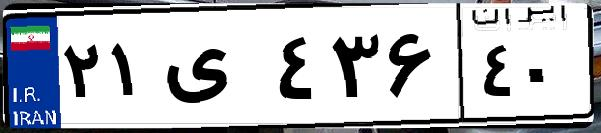0: (525, 38, 570, 115)
1: (110, 28, 158, 98)
2: (57, 26, 110, 100)
3: (330, 28, 385, 110)
4: (270, 28, 330, 110), (475, 38, 525, 113)
6: (385, 28, 445, 110)
ی: (158, 20, 270, 120)
